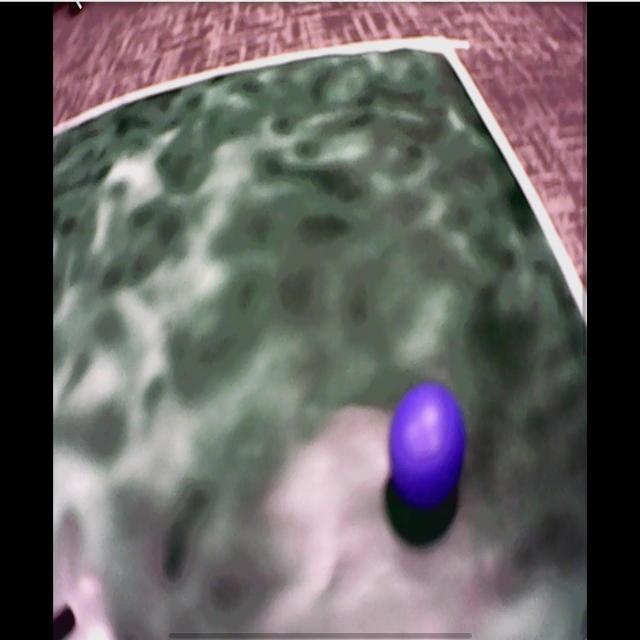ball: (391, 381, 467, 508)
